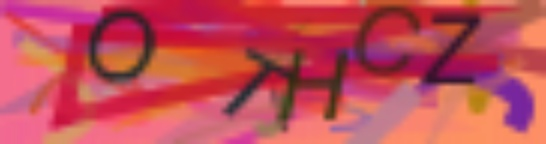C: (352, 5, 422, 80)
H: (283, 48, 350, 124)
O: (86, 8, 159, 84)
T: (218, 48, 292, 120)
Z: (422, 10, 484, 89)
